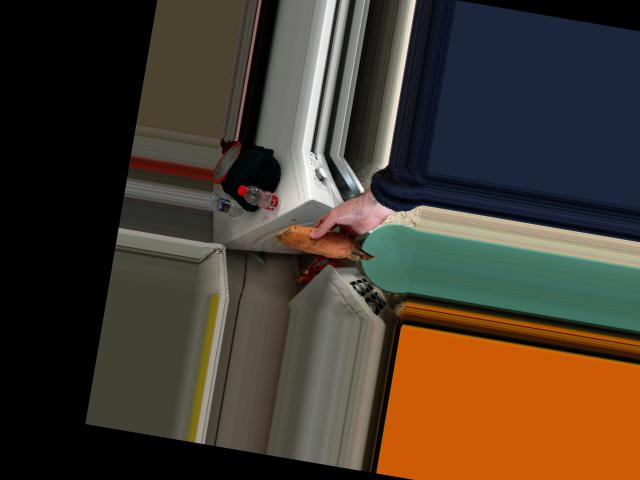sweet_potato: (286, 216, 376, 263)
